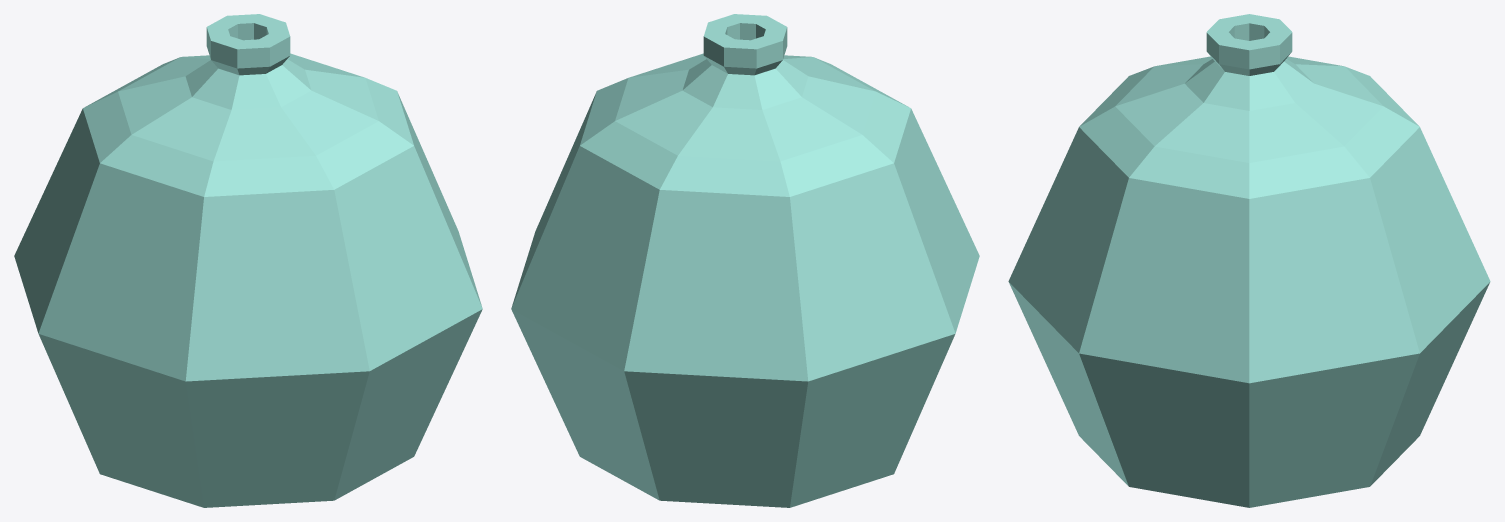
Rendered from Botella.fbx.
The picture shows the model from 3 angles, left to right: view 1: azimuth 30°, elevation 25°; view 2: azimuth 150°, elevation 25°; view 3: azimuth 270°, elevation 25°; orthographic projection.
Visible parts, largest first — view 1: Botella; view 2: Botella; view 3: Botella.
Boxes of the visible parts, bbox=[...] form: Botella: bbox=[14, 14, 482, 507]; Botella: bbox=[511, 14, 979, 507]; Botella: bbox=[1008, 14, 1490, 507].
Size of the model in its own units: 2 by 2.14 by 2.
